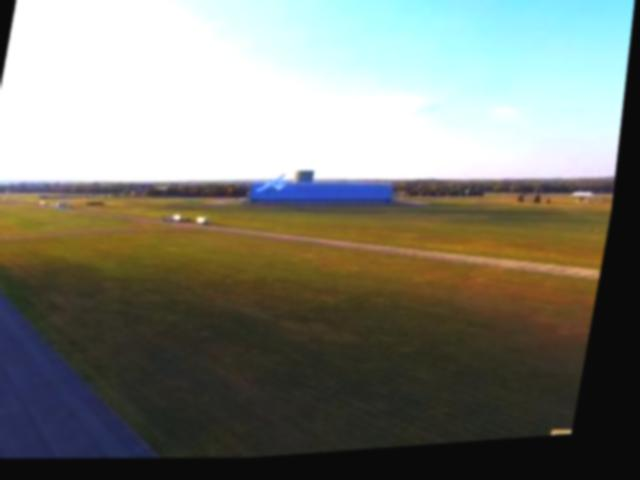uav: (260, 171, 294, 199)
